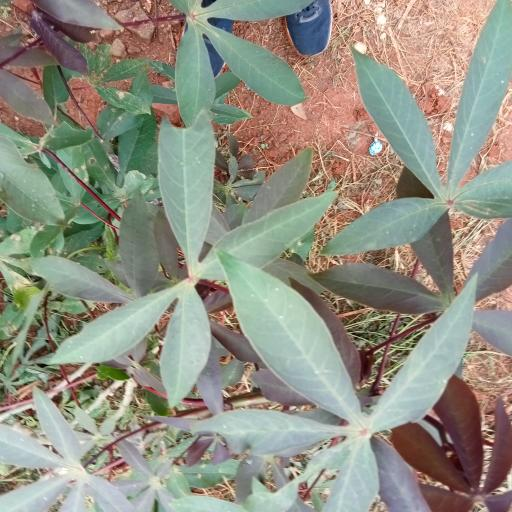Cassava_Healthy: (214, 247, 480, 512), (353, 0, 512, 253)
